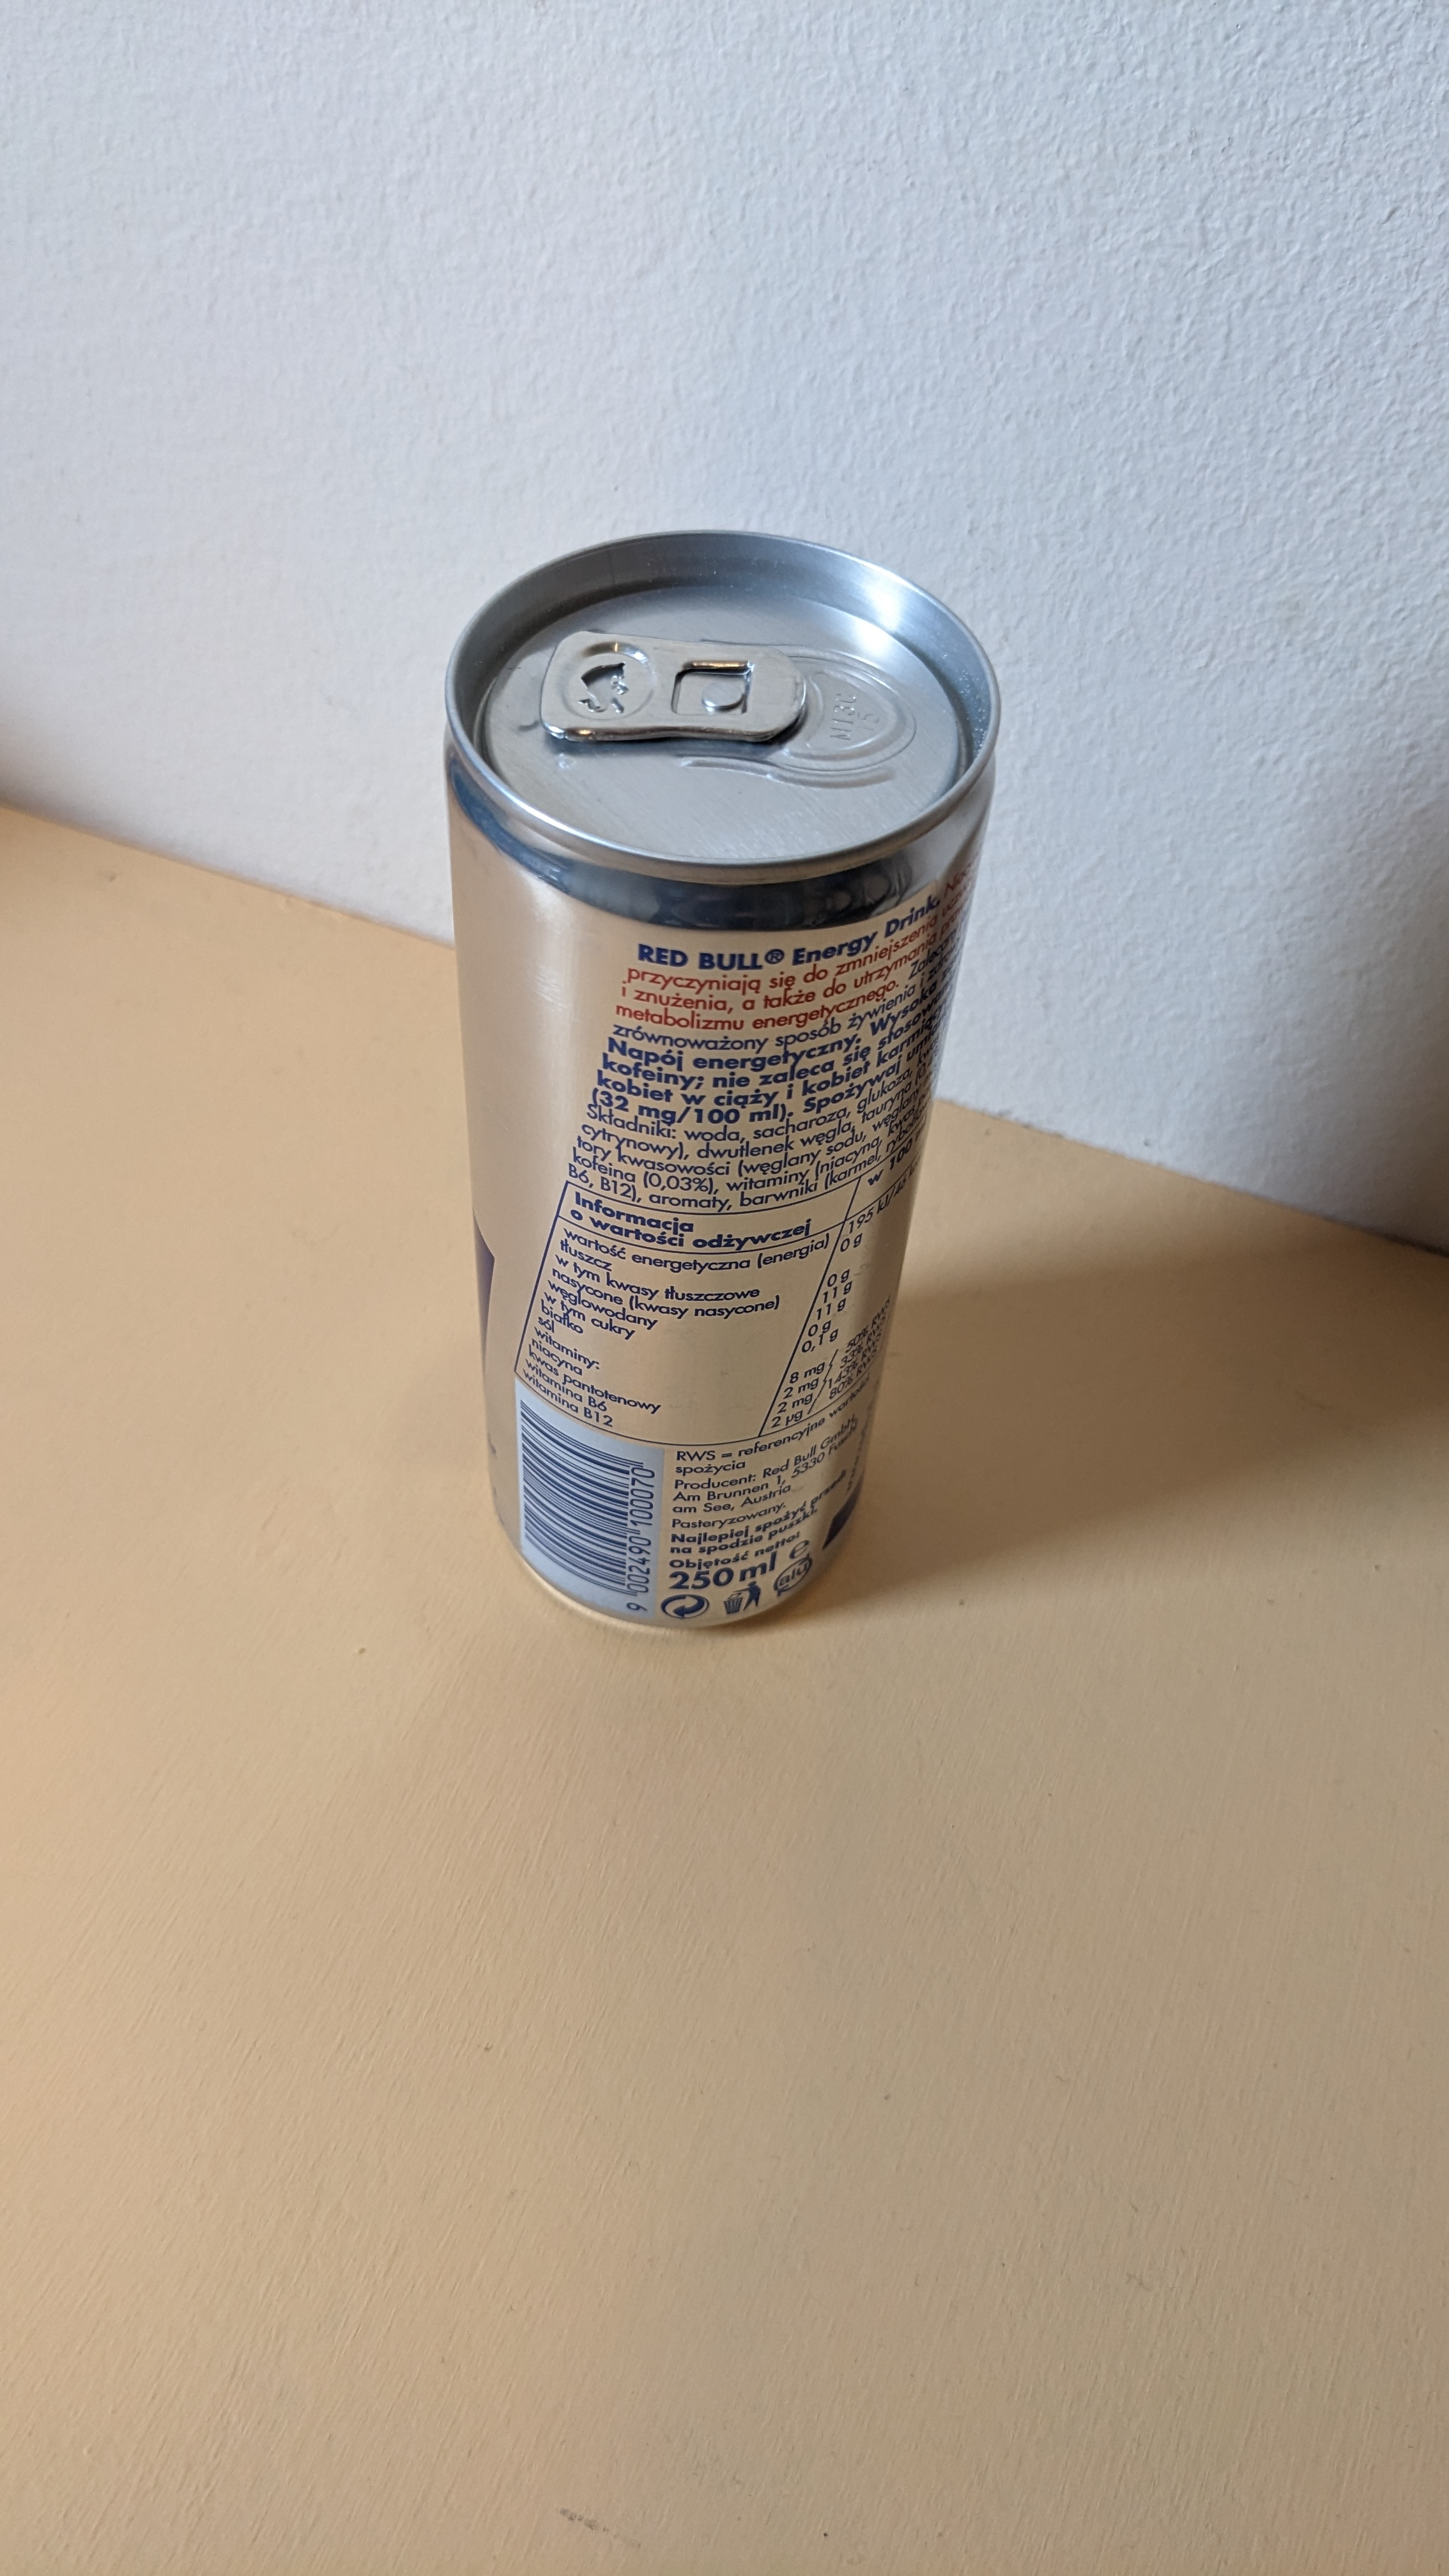red-bull: (396, 527, 1007, 1684)
